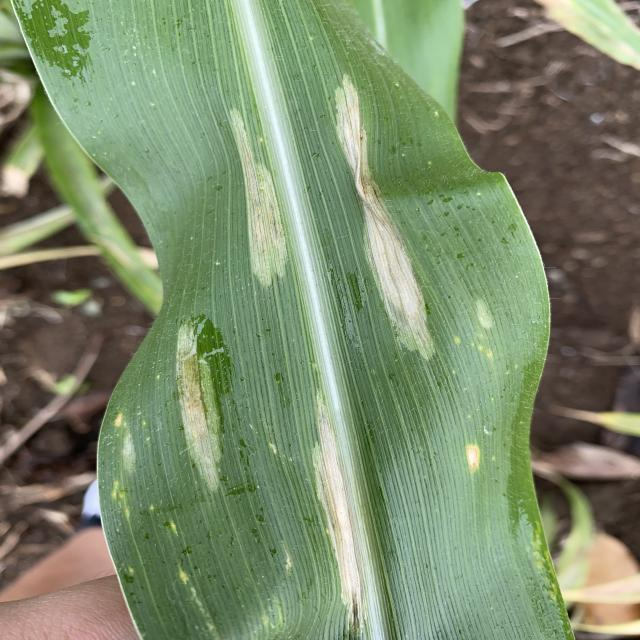Corn_Leaf_Blight: (108, 34, 540, 640)
